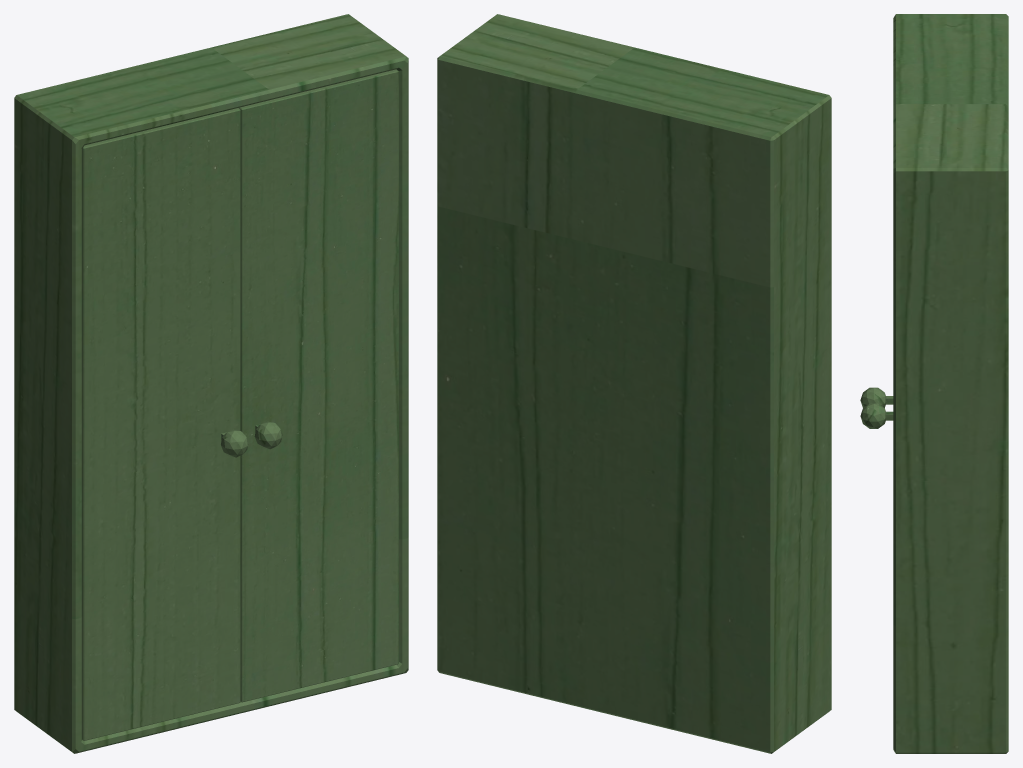
File: commode.fbx
3 views of the same model, side by side, from view 1: azimuth 30°, elevation 25°; view 2: azimuth 150°, elevation 25°; view 3: azimuth 270°, elevation 25° (orthographic). The views are drawn at different scales.
Parts seen in each view (by area): view 1: Shelf B.001, Shelf B.002, Shelf B; view 2: Shelf B; view 3: Shelf B, Shelf B.002, Shelf B.001.
Boxes of the visible parts, <box> form: Shelf B.001: <box>82,108,248,740</box>; Shelf B.002: <box>239,69,398,702</box>; Shelf B: <box>14,14,408,753</box>; Shelf B: <box>437,14,831,753</box>; Shelf B: <box>893,14,1008,753</box>; Shelf B.002: <box>860,403,893,428</box>; Shelf B.001: <box>860,387,893,407</box>.
Bounding box in the file's own units: 492 × 861 × 197.
2 materials, 2 textured.
